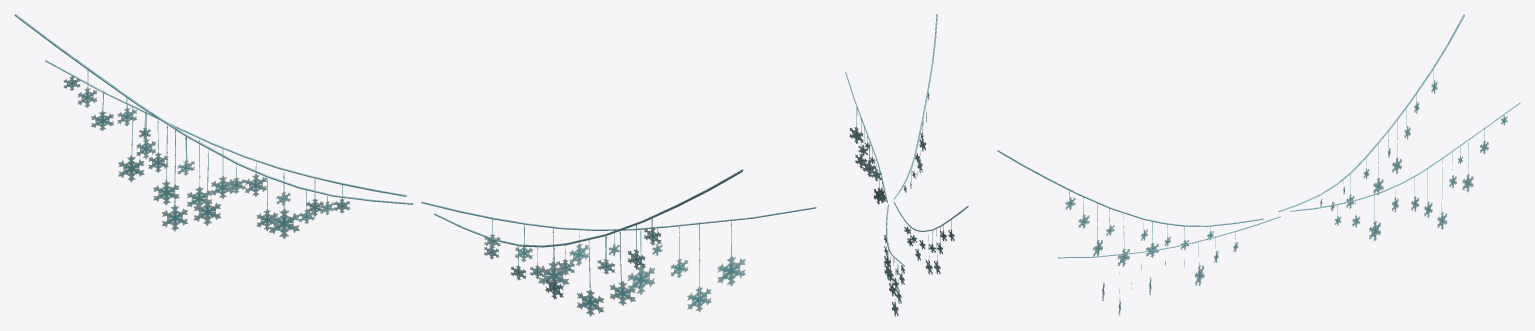
Rendered from pref_sm_beach_winter_snowlight_lv3.fbx.
3 views of the same model, side by side, from view 1: azimuth 30°, elevation 25°; view 2: azimuth 150°, elevation 25°; view 3: azimuth 270°, elevation 25° (orthographic). The views are drawn at different scales.
Visible parts, largest first — view 1: pref_sm_beach_winter_snowlight_lv3; view 2: pref_sm_beach_winter_snowlight_lv3; view 3: pref_sm_beach_winter_snowlight_lv3.
Part boxes in pixels (x1=…): pref_sm_beach_winter_snowlight_lv3: x1=14, y1=14, x2=816, y2=316; pref_sm_beach_winter_snowlight_lv3: x1=845, y1=14, x2=968, y2=316; pref_sm_beach_winter_snowlight_lv3: x1=997, y1=14, x2=1520, y2=315.
Bounding box in the file's own units: 15.59 × 7.07 × 19.98.
